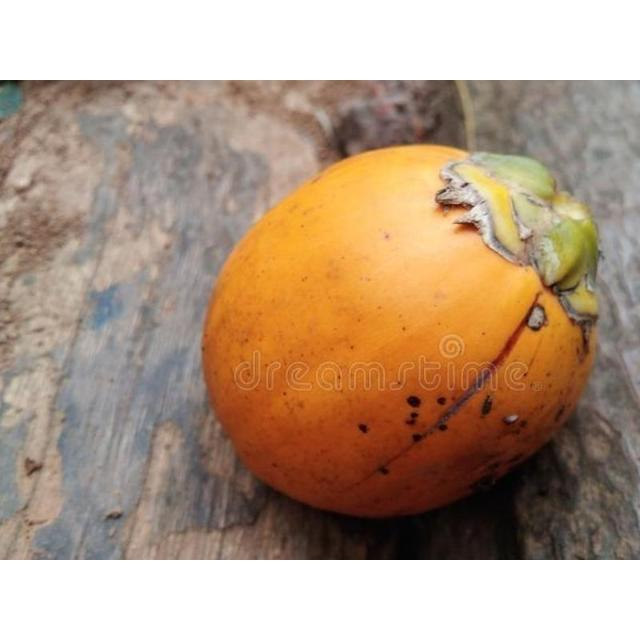good: (200, 144, 600, 522)
